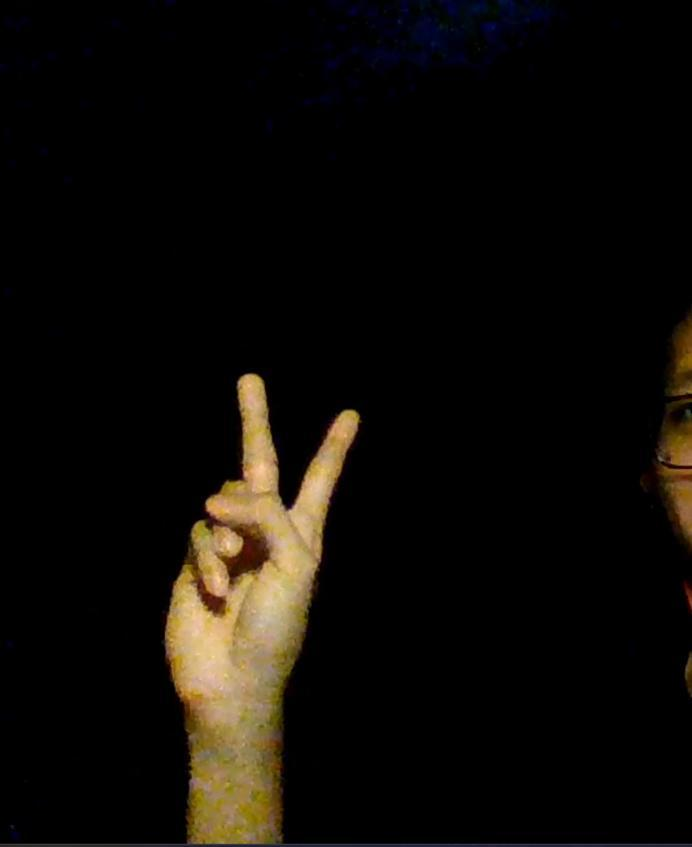v: (161, 367, 362, 705)
